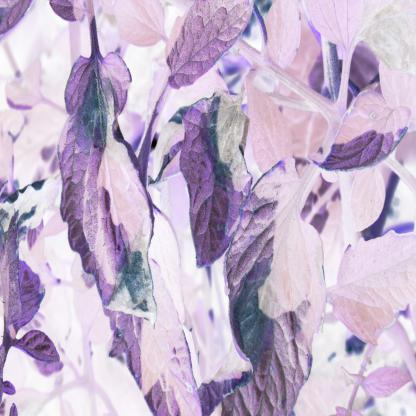potato leaf late blight: (53, 49, 160, 334), (224, 204, 331, 382), (176, 88, 252, 273)
